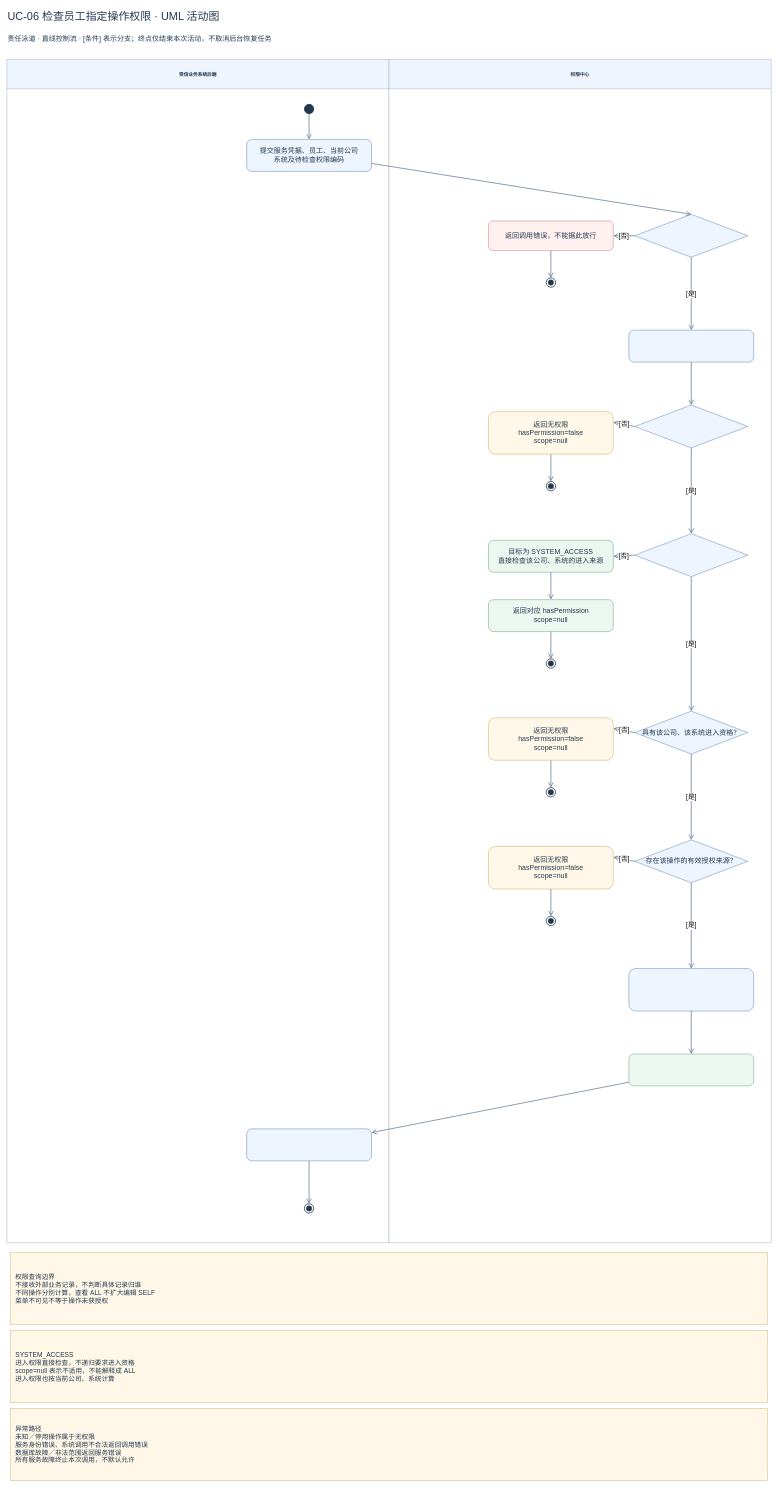
Some shapes in this 778 by 1487 pixel diagram are drawn without their labels. Here are the shapes that lost their labels. From the top down, the centre of each, then its label:
At pixel 691 235: "参数、服务身份与系统绑定合法？".
At pixel 691 346: "检查员工／公司状态和有效任职 读取目标权限及当前有效授权".
At pixel 691 426: "员工及任职有效且目标权限有效？".
At pixel 691 555: "目标是功能操作权限？".
At pixel 691 989: "只合并该公司、系统内该操作范围 全部 SELF 则 SELF，任一 ALL 则 ALL".
At pixel 691 1070: "返回 hasPermission=true scope=SELF 或 ALL".
At pixel 308 1144: "业务系统按结果执行实际拦截 实施公司过滤、本人判断及业务校验".
